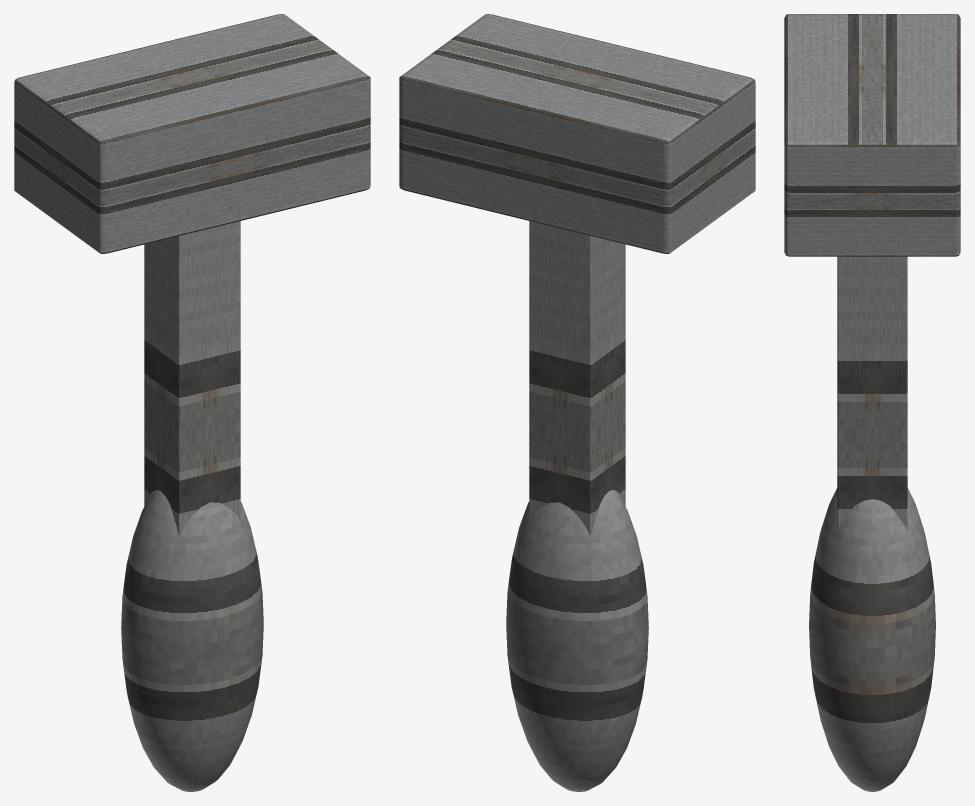
Rendered from spray.glb.
3 renders of one model, left to right at view 1: azimuth 30°, elevation 25°; view 2: azimuth 150°, elevation 25°; view 3: azimuth 270°, elevation 25°, orthographic.
Visible parts, largest first — view 1: head, grip, shaft; view 2: head, grip, shaft; view 3: head, grip, shaft.
Part boxes in pixels (x1=…): head: x1=14, y1=14, x2=370, y2=253; grip: x1=121, y1=490, x2=263, y2=791; shaft: x1=144, y1=221, x2=240, y2=535; head: x1=399, y1=14, x2=755, y2=253; grip: x1=506, y1=490, x2=648, y2=791; shaft: x1=529, y1=221, x2=625, y2=535; head: x1=784, y1=14, x2=960, y2=256; grip: x1=809, y1=488, x2=935, y2=791; shaft: x1=837, y1=256, x2=907, y2=529.
Bounding box in the file's own units: 0.08 × 0.2 × 0.045.
1 material, 1 textured.
